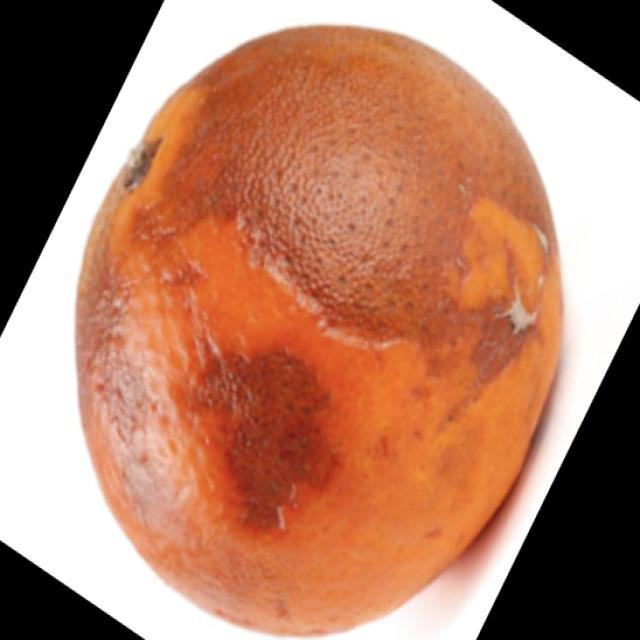sangat-busuk: (76, 27, 561, 633)
